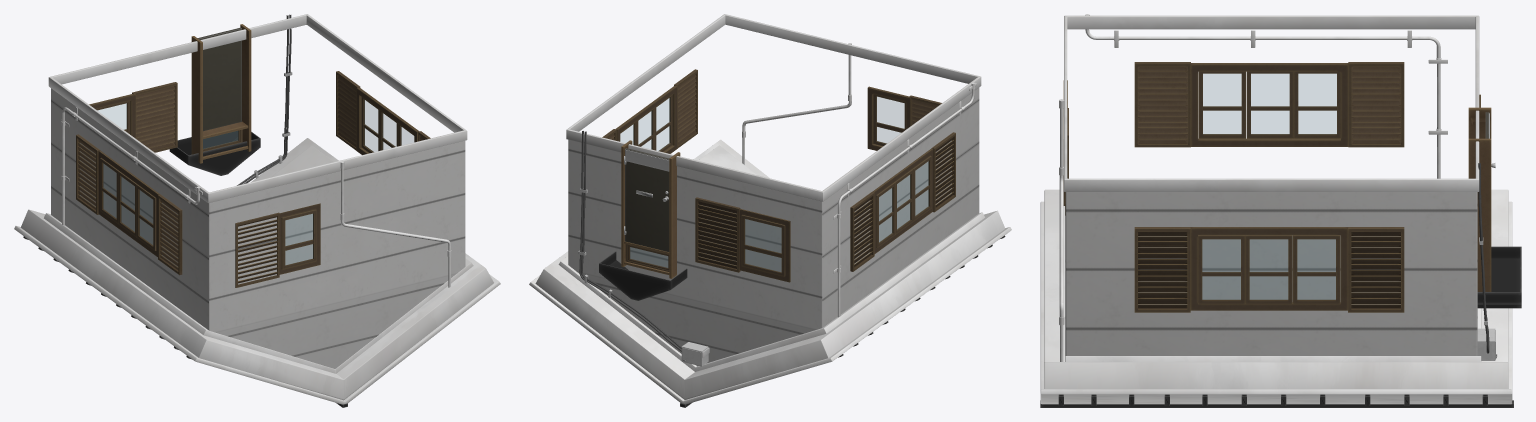
Rendered from anime-house-03.glb.
The picture shows the model from 3 angles, left to right: view 1: azimuth 30°, elevation 25°; view 2: azimuth 150°, elevation 25°; view 3: azimuth 270°, elevation 25°; orthographic projection. The views are drawn at different scales.
Parts seen in each view (by area): view 1: anime-house-03; view 2: anime-house-03; view 3: anime-house-03.
Part boxes in pixels (left/top/right/bottom): anime-house-03: left=14, top=14, right=500, bottom=407; anime-house-03: left=529, top=14, right=1011, bottom=407; anime-house-03: left=1040, top=14, right=1521, bottom=407.
Bounding box in the file's own units: 7.86 × 5.93 × 8.23.
14 materials, 13 textured.
